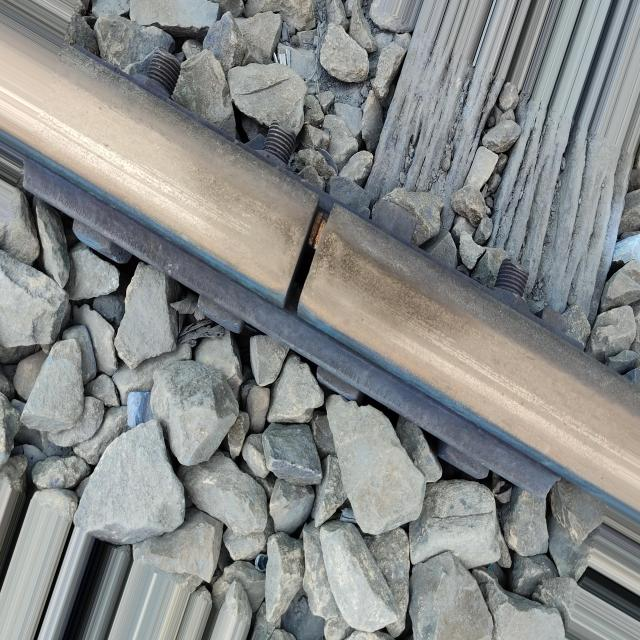crack: (256, 190, 362, 322)
